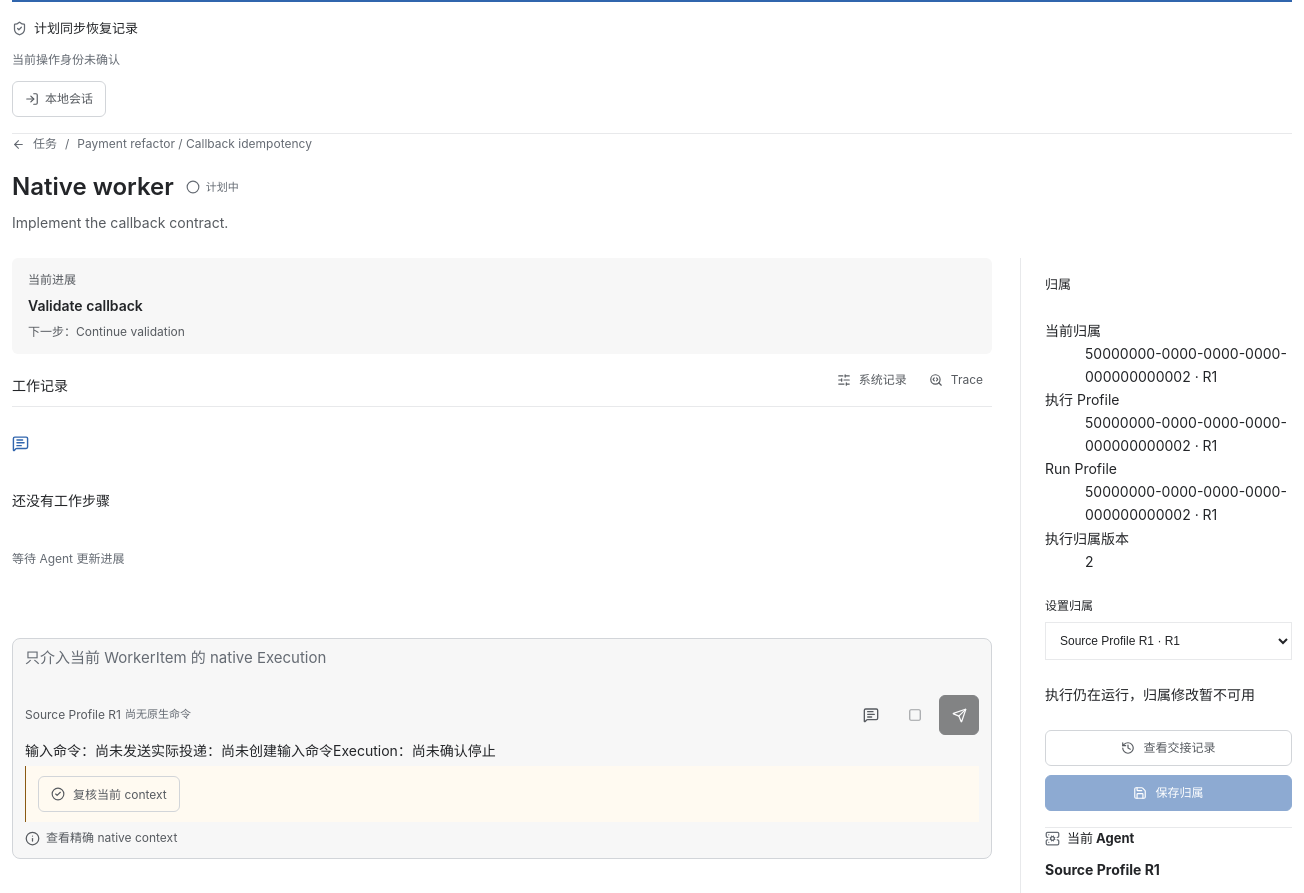
Scenario: NativeWorkerHandoff › does not expose the legacy handoff entry from cached candidates on a native source
Select "当前用户" in the dropdown labelled "设置归属": (1168, 642) [1045,622,1292,660]
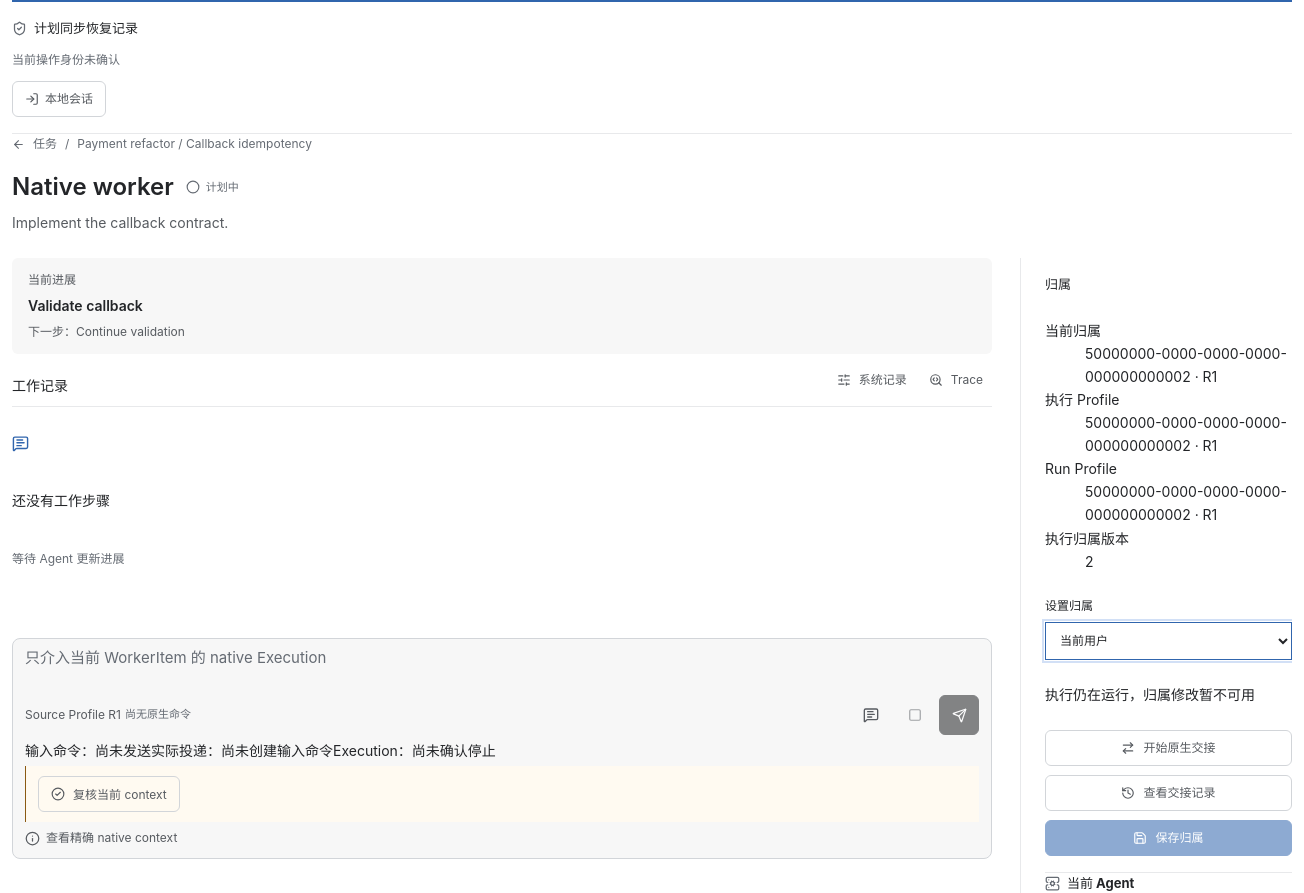
Expected: the button "开始原生交接" is shown, [1045,730,1292,766]
